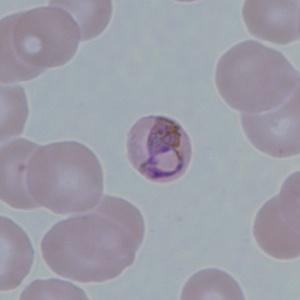Infected: (127, 116, 193, 185)
Uninfected: (214, 40, 300, 112), (42, 216, 131, 283), (28, 140, 104, 214), (74, 195, 146, 261), (0, 137, 56, 209), (16, 7, 81, 67), (242, 95, 300, 158), (253, 192, 300, 260), (0, 212, 36, 290), (49, 0, 112, 41), (245, 0, 300, 44), (183, 267, 247, 300)
